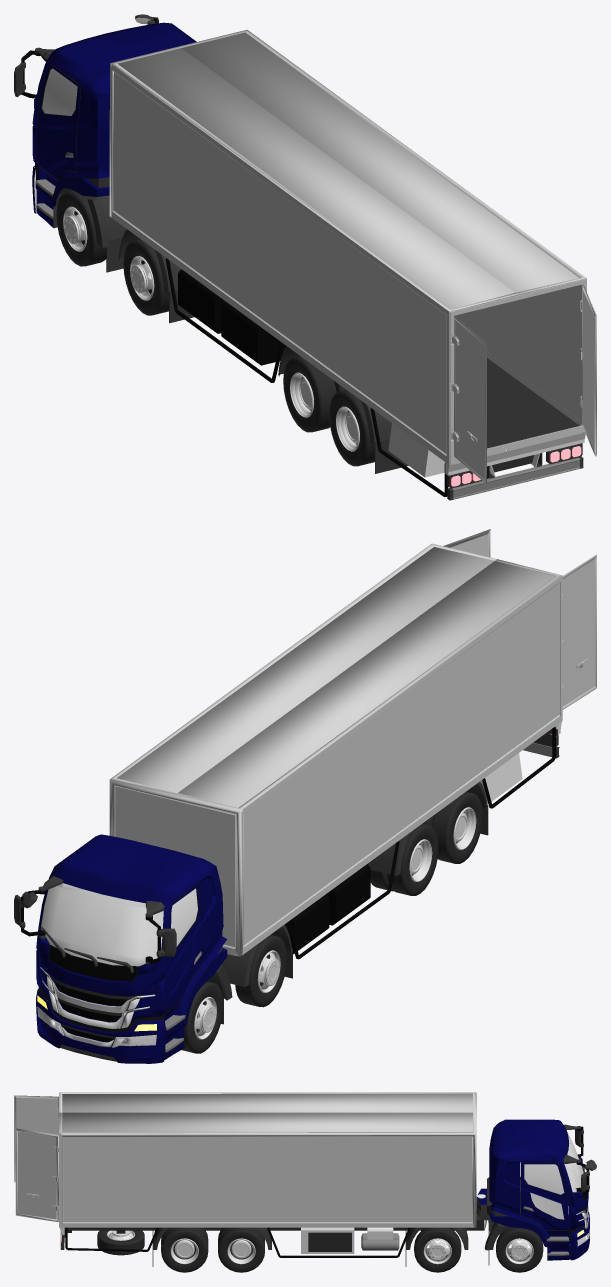
The model's file is MESH_CAMION_VUOTO_TEAM.fbx.
3 renders of one model, top to bottom at view 1: azimuth 30°, elevation 25°; view 2: azimuth 150°, elevation 25°; view 3: azimuth 270°, elevation 25°, orthographic. The views are drawn at different scales.
Visible parts, largest first — view 1: Object_21.009; view 2: Object_21.009; view 3: Object_21.009.
Boxes of the visible parts, <box> form: Object_21.009: <box>14,14,596,500</box>; Object_21.009: <box>14,529,596,1063</box>; Object_21.009: <box>14,1092,596,1272</box>.
Size of the model in its own units: 3.45 by 4.53 by 17.12.
